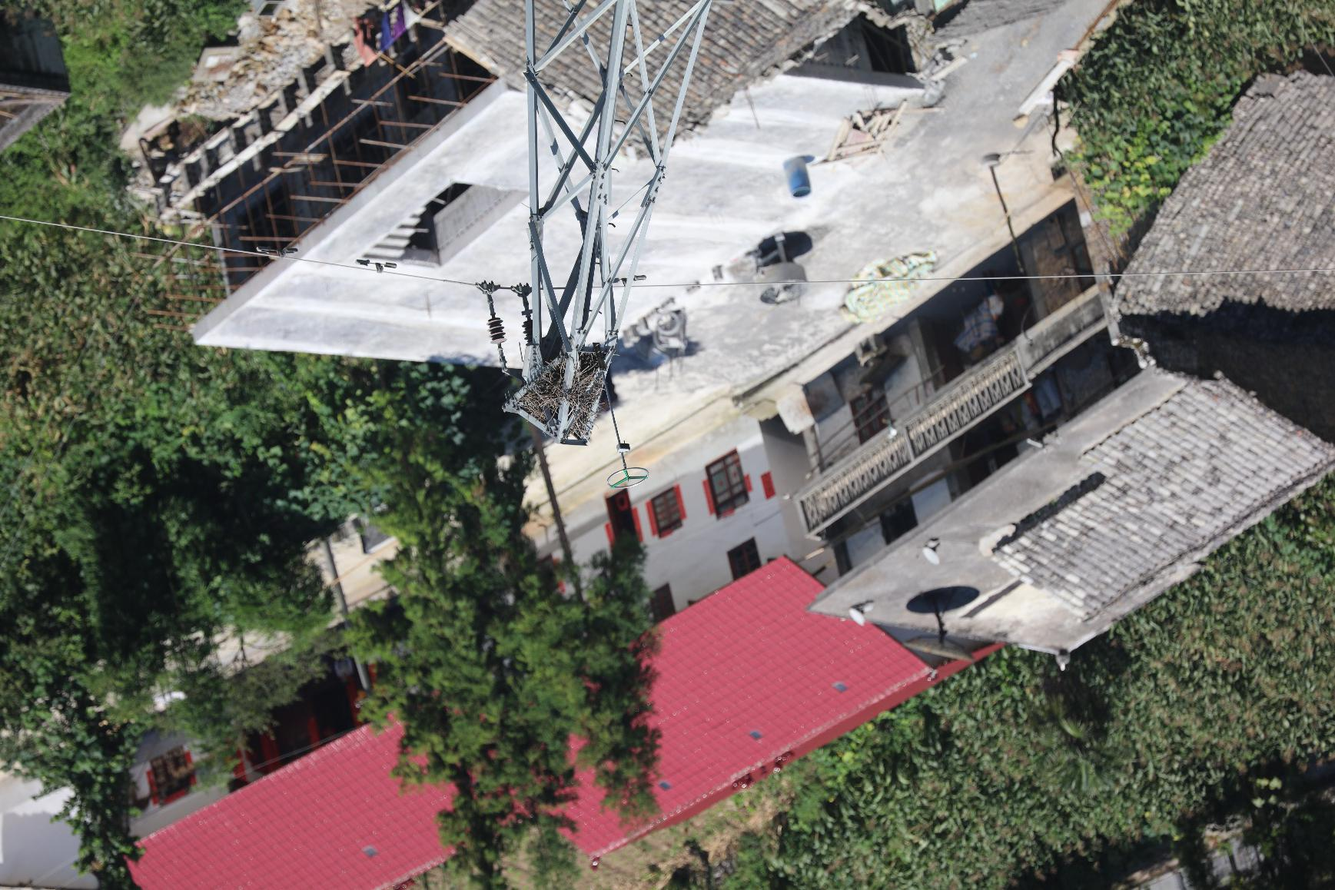damper: (353, 257, 398, 275), (254, 244, 300, 261), (607, 273, 649, 289)
nest: (515, 345, 612, 438)
